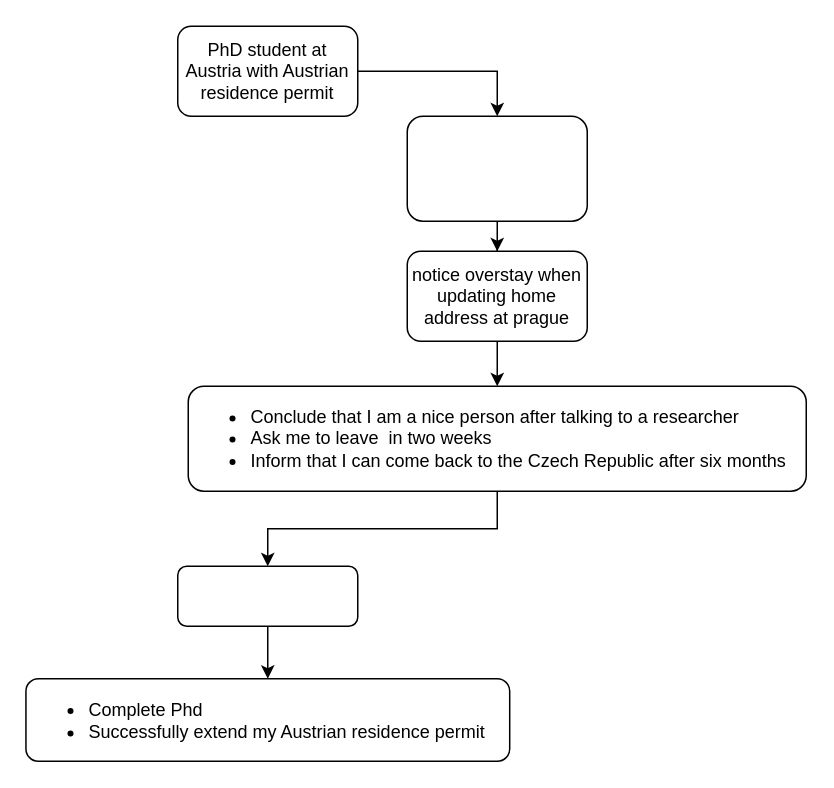
Some shapes in this 834 by 788 pixel diagram are drawn without their labels. Each missing label, with the centre of its shape:
Return to Austria within the time frame: pixel 267 595
short-term research visit to Prague using Austrian residence permit: pixel 496 168
